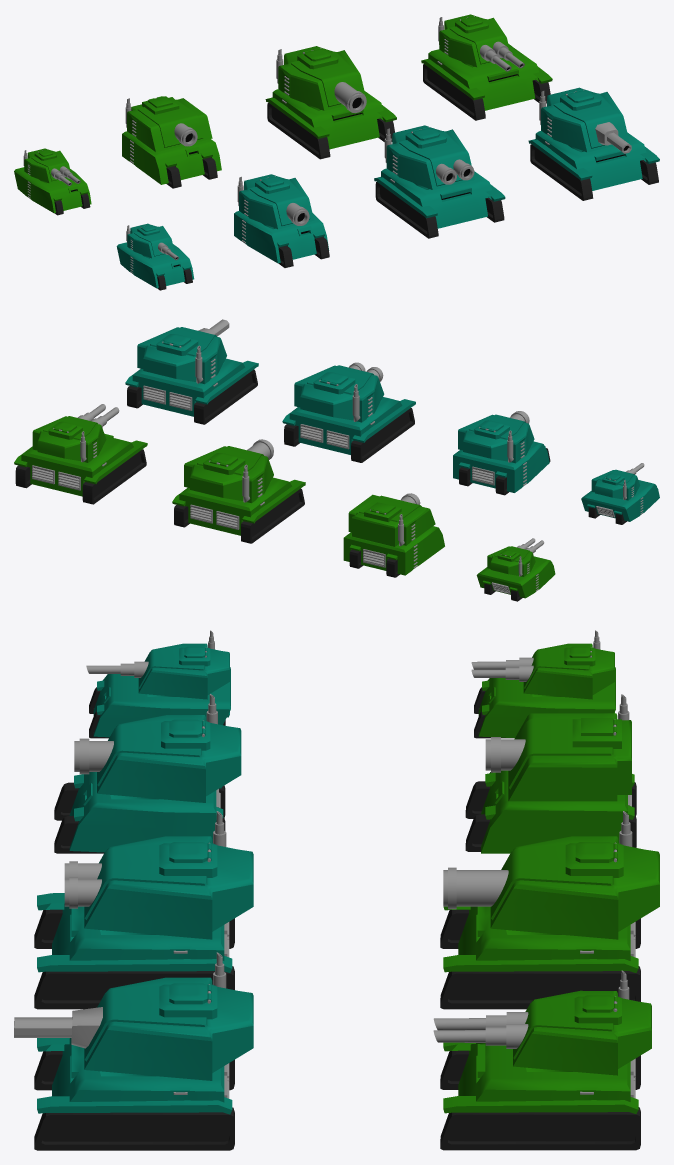
The model's file is turrets_tanks.fbx.
The picture shows the model from 3 angles, top to bottom: view 1: azimuth 30°, elevation 25°; view 2: azimuth 150°, elevation 25°; view 3: azimuth 270°, elevation 25°; orthographic projection. The views are drawn at different scales.
Visible parts, largest first — view 1: Turret_007, Turret_007.001, Turret_003, Turret_004, Turret_002, Turret_006, Turret_001, Turret_005; view 2: Turret_003, Turret_007.001, Turret_007, Turret_004, Turret_002, Turret_006, Turret_001, Turret_005; view 3: Turret_007.001, Turret_003, Turret_004, Turret_007, Turret_006, Turret_002, Turret_001, Turret_005.
Boxes of the visible parts, x1=… form: Turret_007: x1=374, y1=125, x2=505, y2=238; Turret_007.001: x1=528, y1=87, x2=659, y2=200; Turret_003: x1=265, y1=46, x2=396, y2=159; Turret_004: x1=421, y1=14, x2=552, y2=120; Turret_002: x1=122, y1=96, x2=221, y2=188; Turret_006: x1=234, y1=174, x2=329, y2=267; Turret_001: x1=14, y1=148, x2=91, y2=215; Turret_005: x1=116, y1=223, x2=194, y2=290; Turret_003: x1=172, y1=439, x2=305, y2=543; Turret_007.001: x1=125, y1=319, x2=258, y2=424; Turret_007: x1=282, y1=362, x2=415, y2=462; Turret_004: x1=14, y1=404, x2=147, y2=504; Turret_002: x1=343, y1=493, x2=444, y2=577; Turret_006: x1=453, y1=411, x2=550, y2=495; Turret_001: x1=476, y1=538, x2=555, y2=601; Turret_005: x1=581, y1=463, x2=659, y2=524; Turret_007.001: x1=14, y1=952, x2=253, y2=1150; Turret_003: x1=440, y1=811, x2=659, y2=1009; Turret_004: x1=433, y1=970, x2=651, y2=1150; Turret_007: x1=34, y1=811, x2=253, y2=1009; Turret_006: x1=54, y1=694, x2=241, y2=853; Turret_002: x1=465, y1=694, x2=636, y2=853; Turret_001: x1=471, y1=630, x2=615, y2=738; Turret_005: x1=86, y1=630, x2=230, y2=738.
Bounding box in the file's own units: 2.55 × 0.3619 × 1.54.
